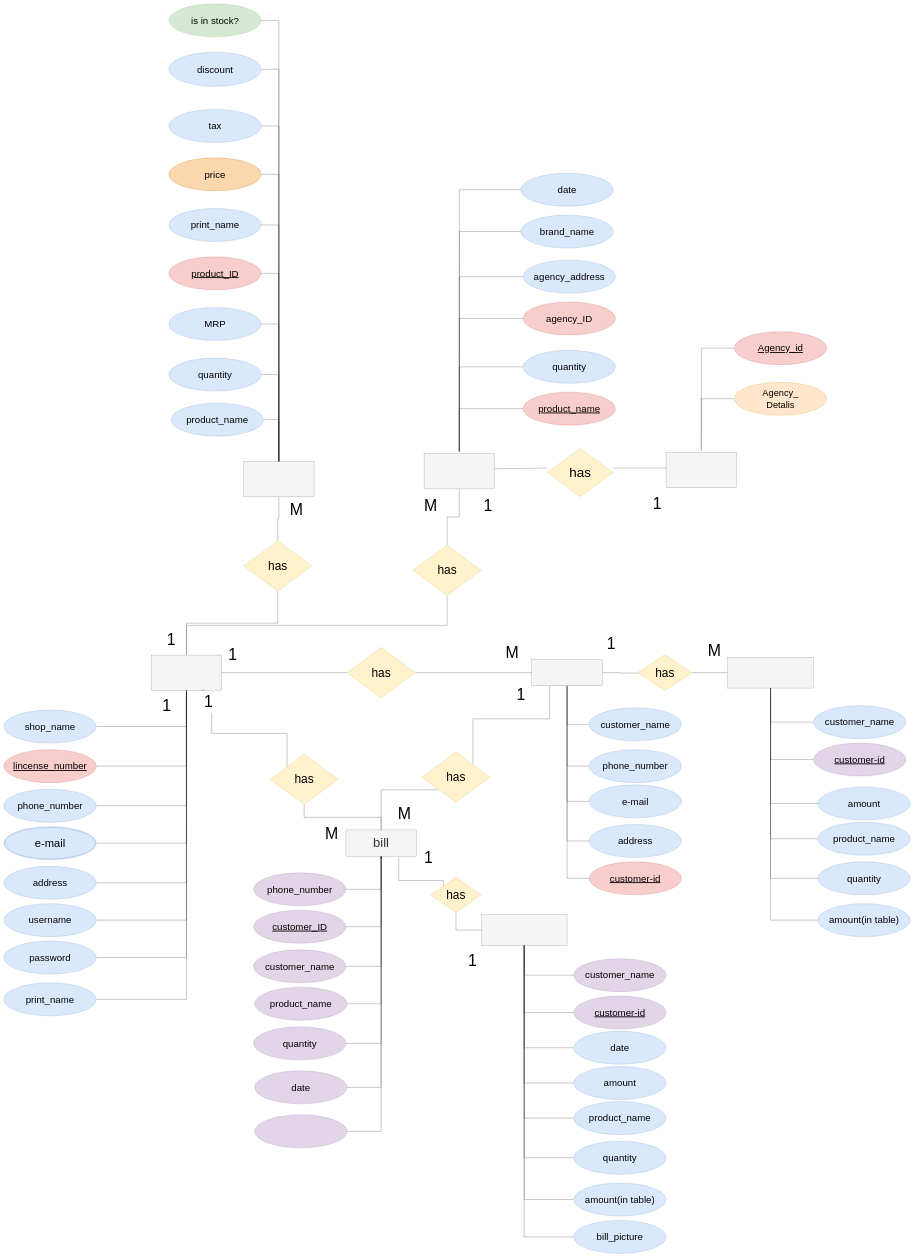
Image size: 914x1257. Some labels were removed from this diagram. The shapes that lost their labels are listed below. From the top down, each one's centre as x and y in pixels, then its label:
At point 278,479: "product".
At point 459,471: "stock".
At point 701,470: "Agency".
At point 186,672: "SHOP".
At point 567,672: "customer".
At point 770,672: "purchase_history".
At point 524,929: "billing_history".
At point 300,1131: "bill no".
